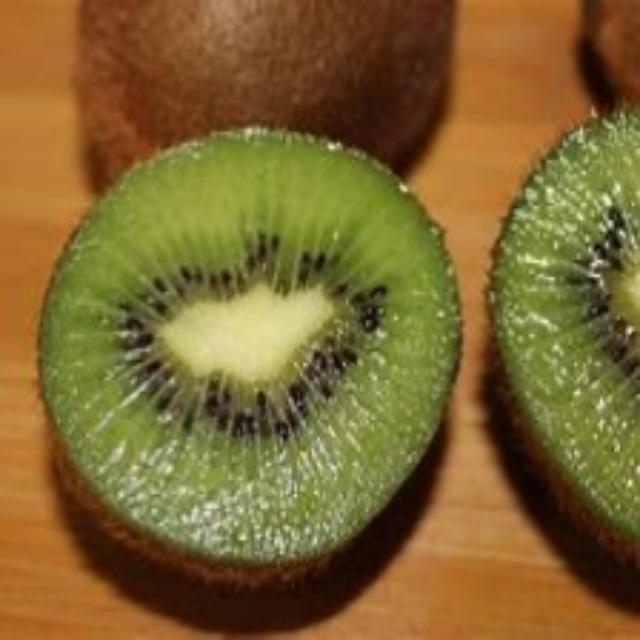kiwi: (52, 141, 457, 583), (495, 90, 639, 562), (79, 2, 443, 177)
